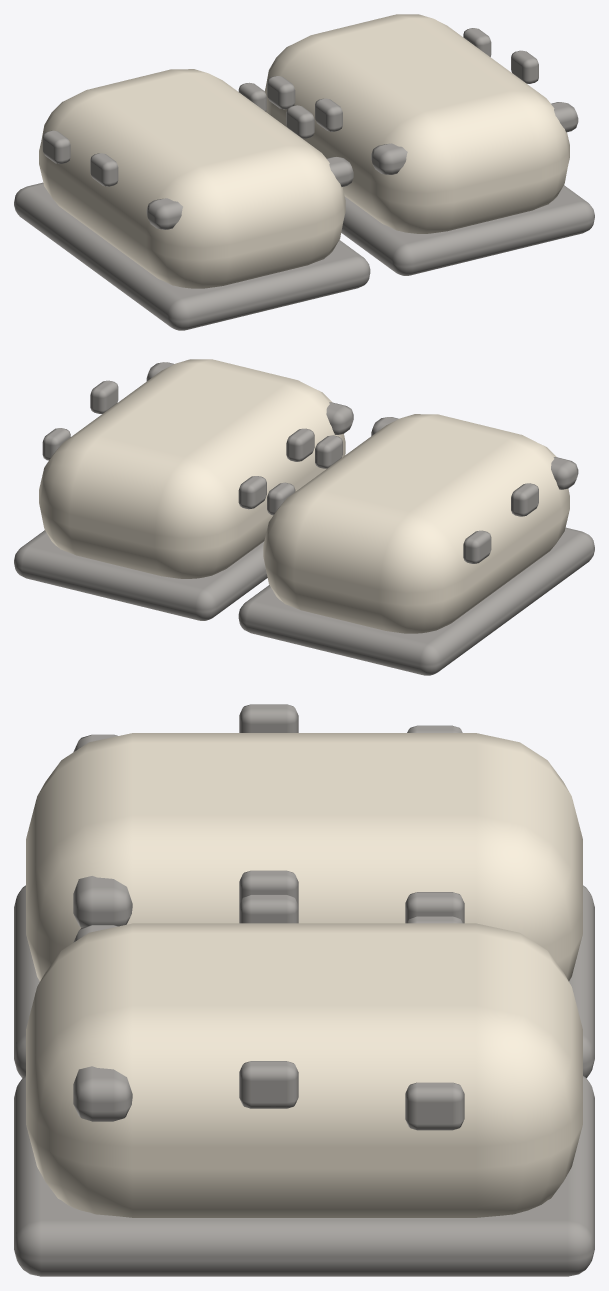
File: cross_belt_sandals.glb
3 renders of one model, top to bottom at view 1: azimuth 30°, elevation 25°; view 2: azimuth 150°, elevation 25°; view 3: azimuth 270°, elevation 25°, orthographic. The views are drawn at different scales.
Visible parts, largest first — view 1: cross_belt_sandals_LegL, cross_belt_sandals_LegR; view 2: cross_belt_sandals_LegL, cross_belt_sandals_LegR; view 3: cross_belt_sandals_LegR, cross_belt_sandals_LegL.
Part boxes in pixels (x1,y1,x2,y2): cross_belt_sandals_LegL: (14,69,370,330); cross_belt_sandals_LegR: (264,14,594,275); cross_belt_sandals_LegL: (238,414,594,675); cross_belt_sandals_LegR: (14,359,353,620); cross_belt_sandals_LegR: (14,894,594,1276); cross_belt_sandals_LegL: (14,704,594,1077).
Bounding box in the file's own units: 0.37 × 0.1075 × 0.245.
